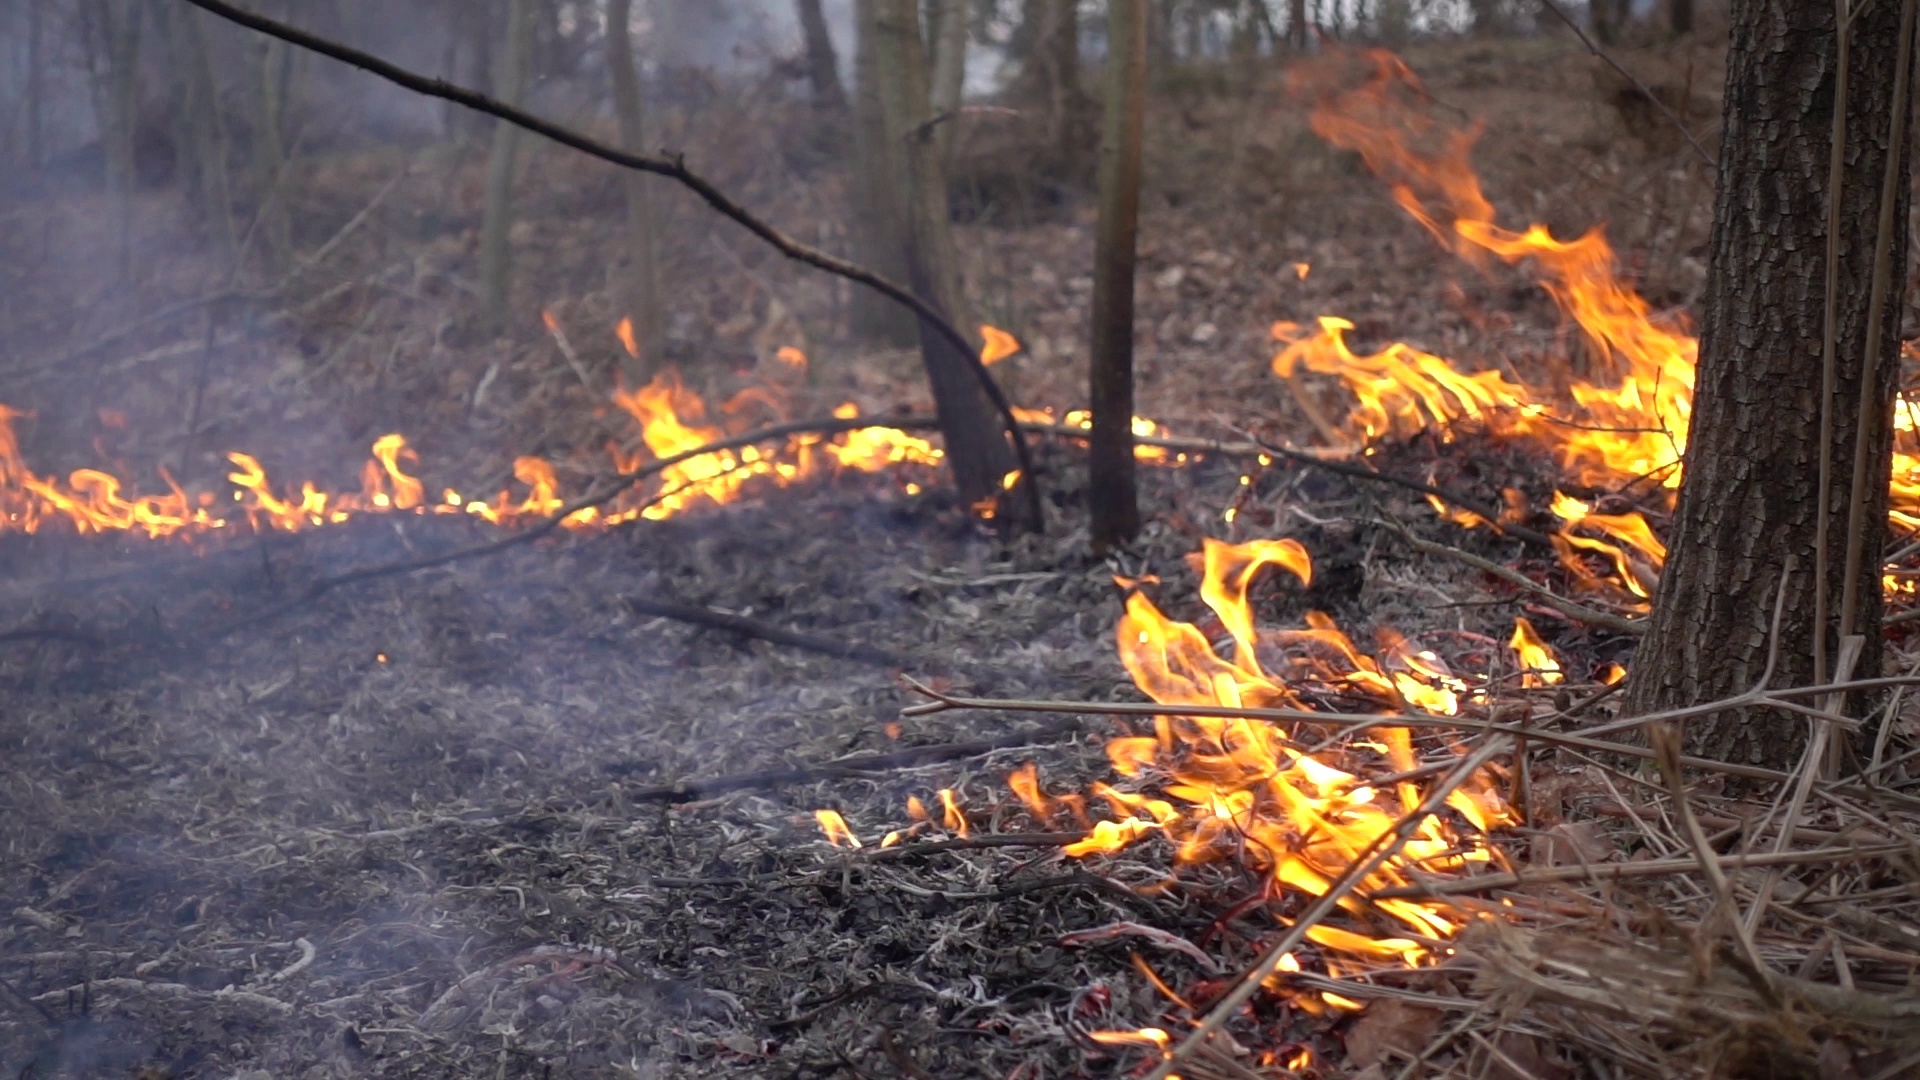fire: (1056, 531, 1545, 1009), (1273, 224, 1692, 543), (1, 435, 422, 535), (617, 378, 932, 498), (1884, 396, 1920, 538), (502, 458, 559, 518), (1129, 400, 1164, 462)
